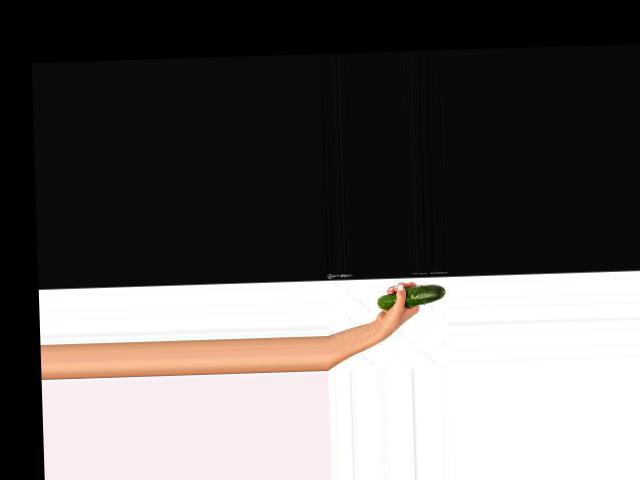cucumber: (377, 283, 447, 309)
